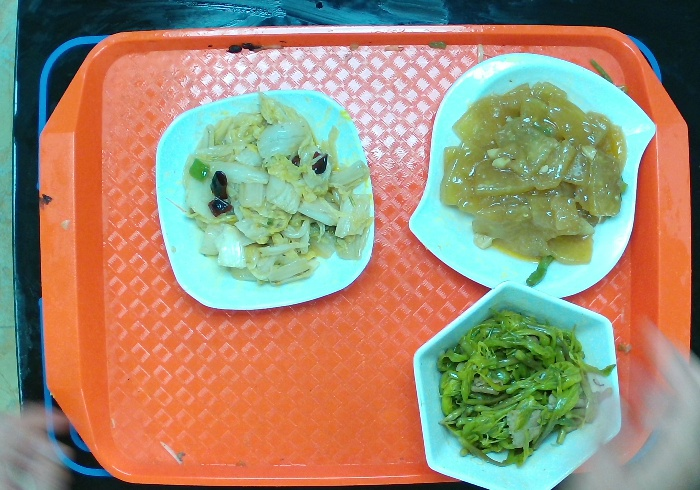RJxy-Liu_Jiao_Wan: (410, 279, 622, 490)
RJxy-Shuang_Jiao_Pan: (407, 50, 657, 300)
RJxy-Si_Fang_Wan: (153, 87, 376, 312)
